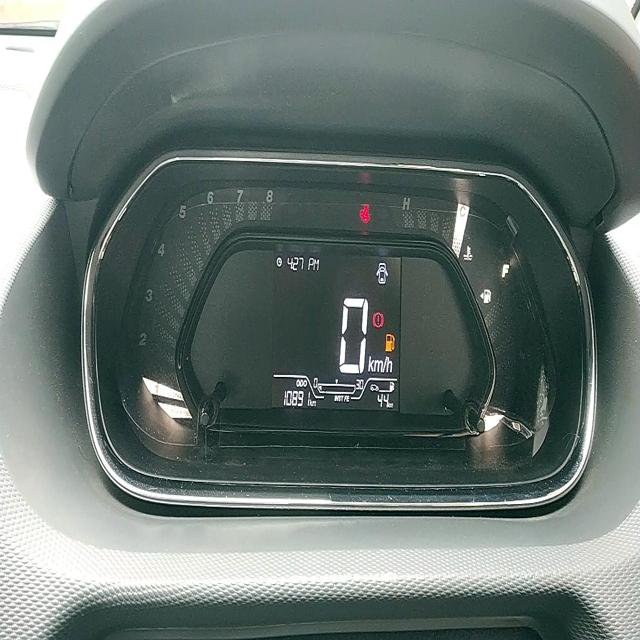odometer: (281, 384, 311, 409)
